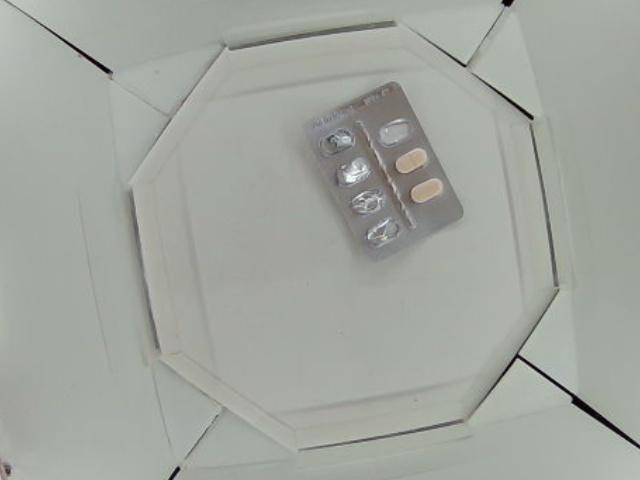Medicine: (301, 78, 463, 255)
